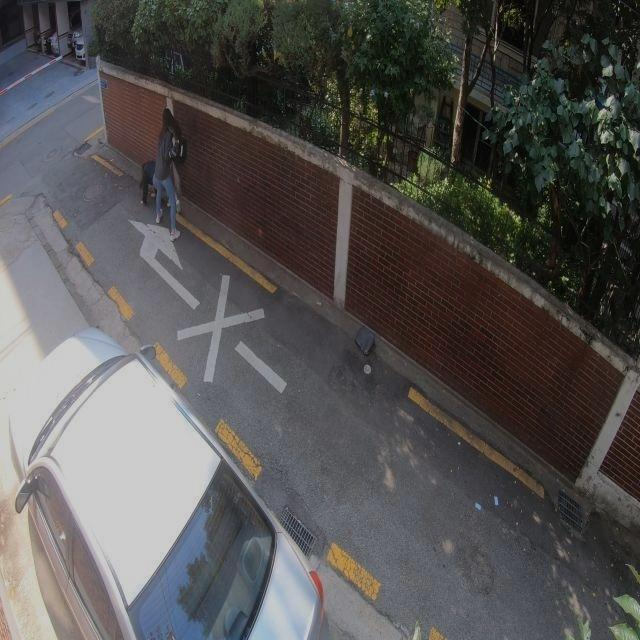fight: (139, 103, 187, 238)
